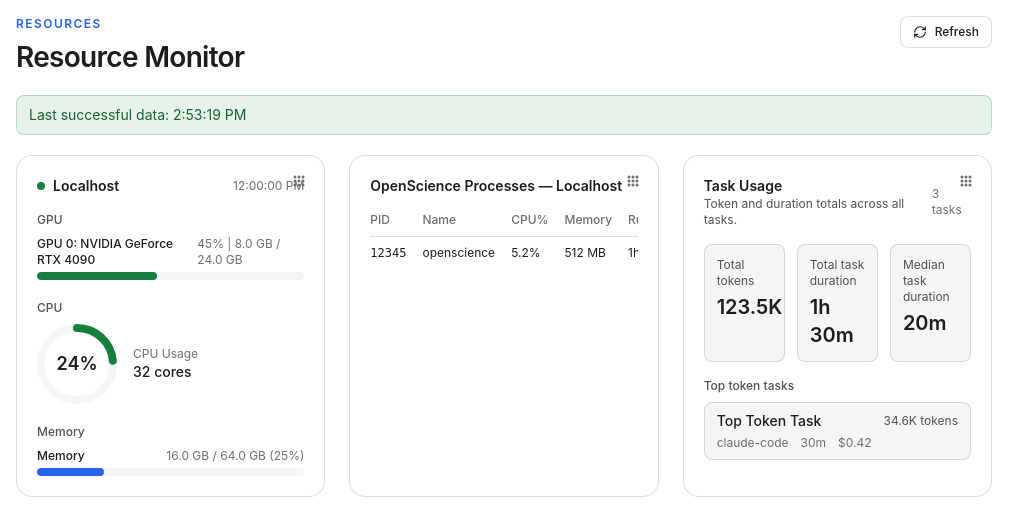
Scenario: ResourcesPage › keeps the last successful cards when a global refresh fails
Check: the heading "Localhost" is shown, box 53,176 -> 119,196
Step 1. Click the button "Refresh" → (946, 32), box 900,16 -> 992,48
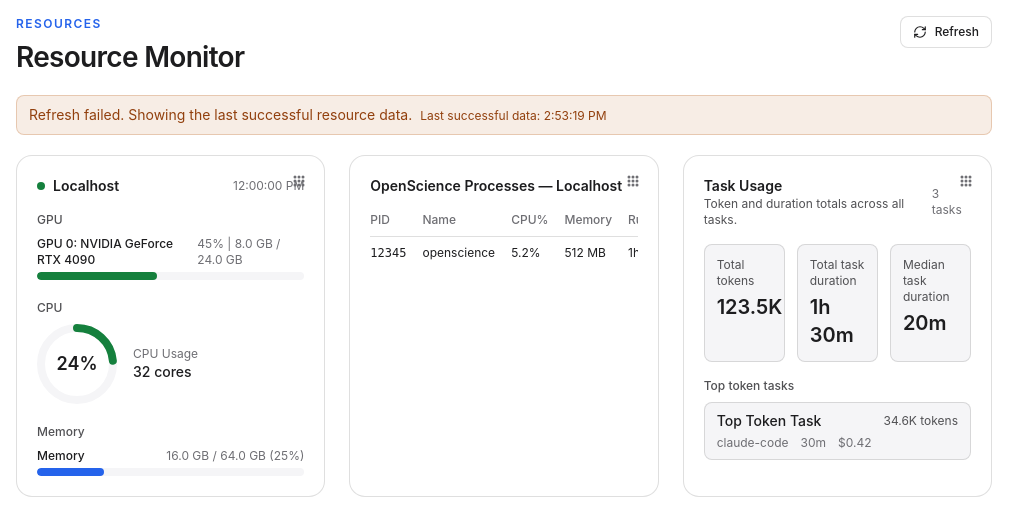
Check: the heading "Localhost" is shown, box 53,176 -> 119,196
Check: the message with test id "resources-update-strip" shows "Refresh failed. Showing the last successful resource data.", box 29,106 -> 412,123
